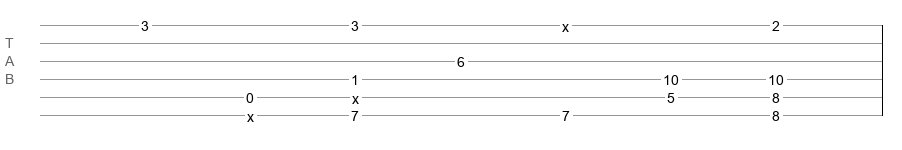0: (246, 90, 254, 100)
1: (351, 72, 359, 82)
10: (663, 72, 679, 82), (768, 72, 784, 82)
2: (772, 18, 780, 28)
3: (141, 18, 149, 28), (351, 18, 359, 28)
5: (667, 90, 675, 100)
6: (457, 54, 465, 64)
7: (351, 108, 359, 118), (562, 108, 570, 118)
8: (772, 108, 780, 118), (772, 90, 780, 100)
x: (247, 109, 254, 117), (352, 91, 359, 99), (562, 19, 569, 27)
